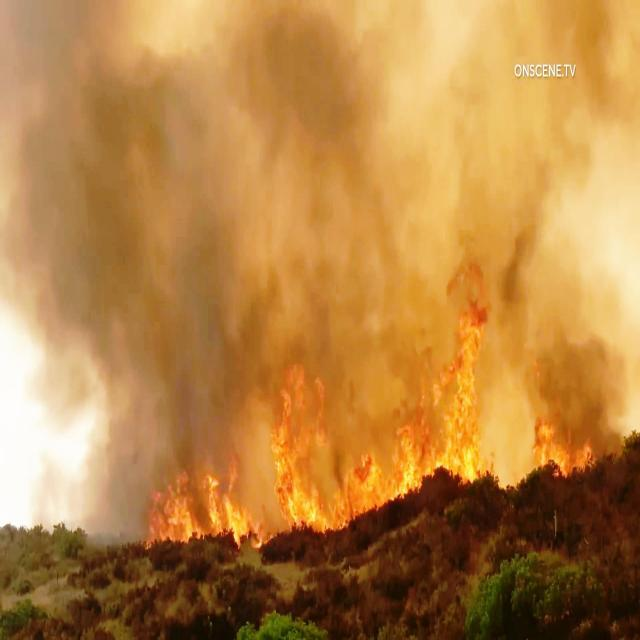Fire: (433, 248, 492, 493), (255, 362, 325, 534), (138, 452, 254, 548), (328, 414, 385, 526), (538, 393, 596, 485), (388, 399, 428, 502)
Smoke: (2, 0, 640, 291), (4, 300, 434, 370), (494, 293, 640, 398), (122, 372, 252, 454)
